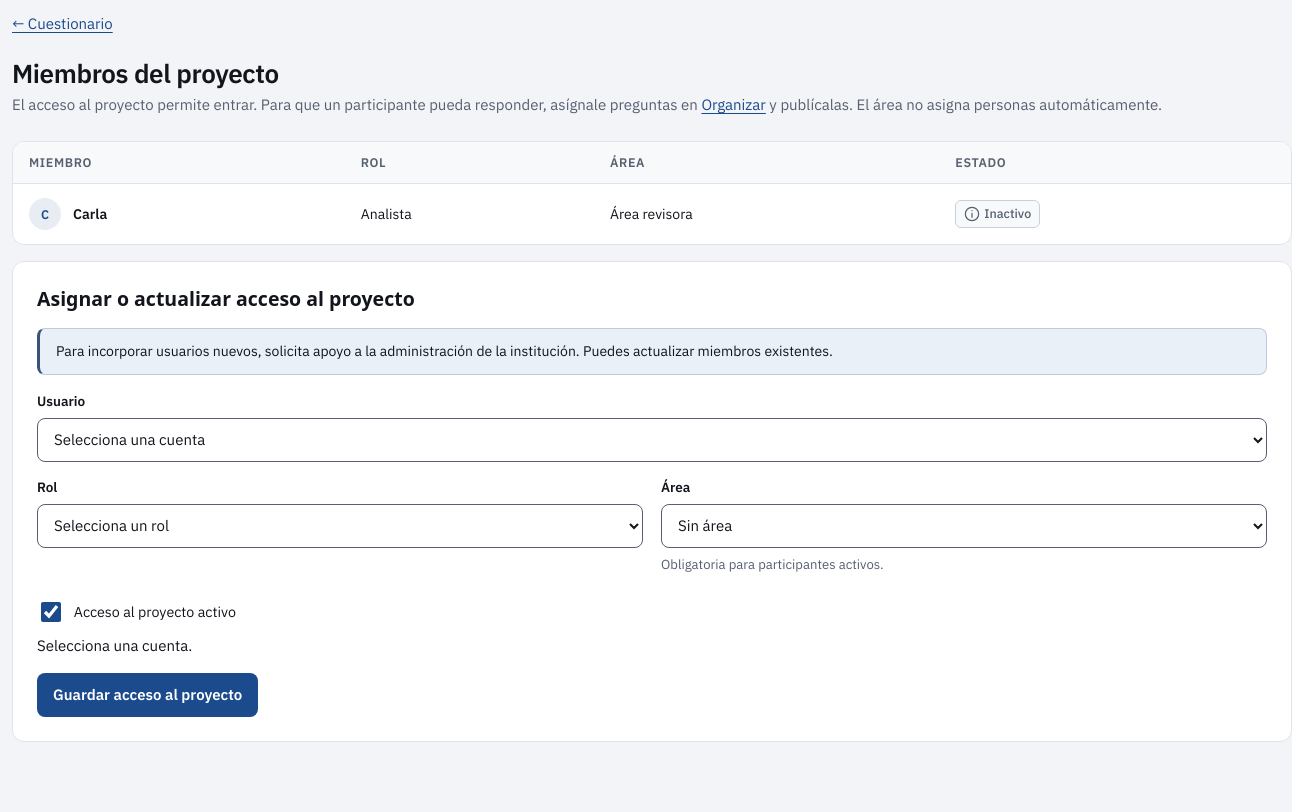
Test case: precarga el rol, área y estado vigentes al elegir un miembro
This screenshot has width=1292, height=812.
Select "Carla" in the dropdown labelled "Usuario": (652, 440) 37,418 -> 1267,462
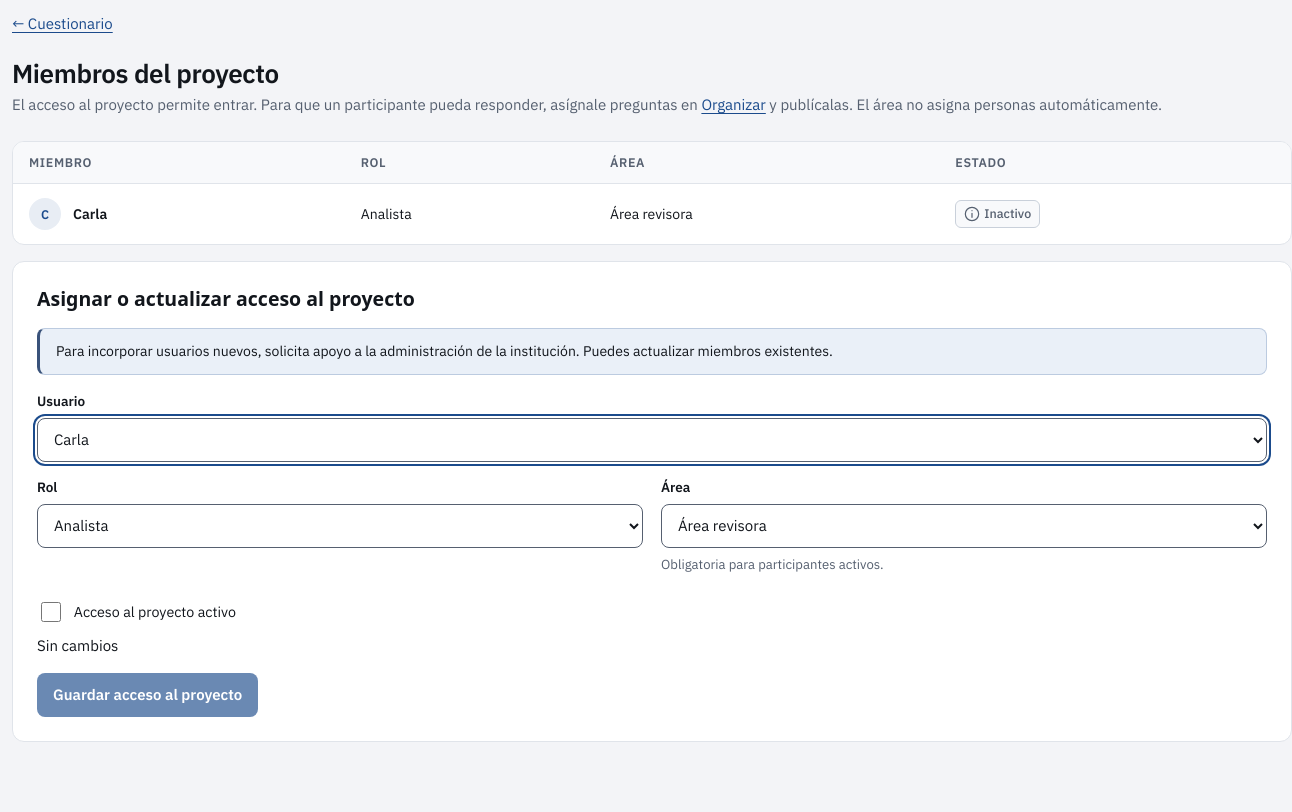
Now the dropdown labelled "Rol" shows "Analista", box 37,504 -> 643,548
Now the dropdown labelled "Área" shows "Área revisora", box 661,504 -> 1267,548
Now the checkbox labelled "Acceso al proyecto activo" is not checked, box 41,602 -> 61,622
